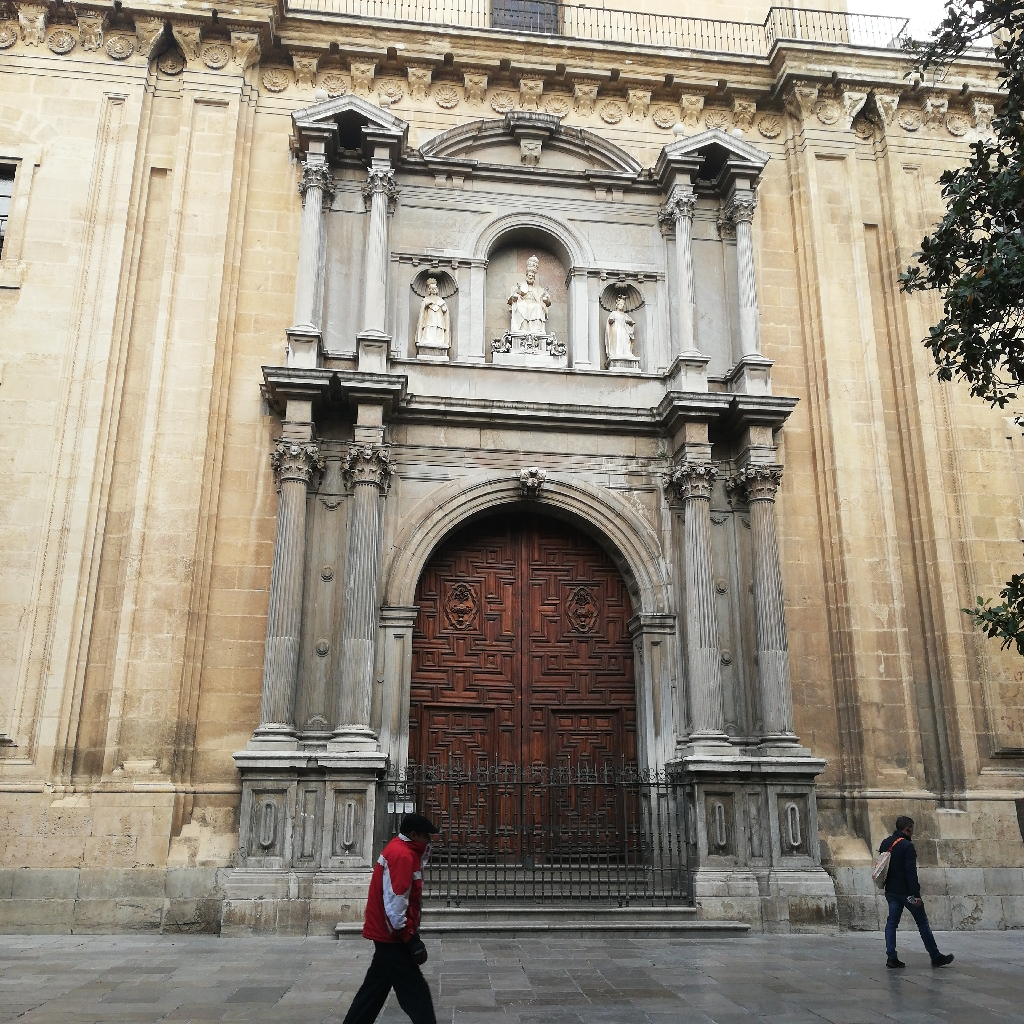arco-medio-punto: (400, 493, 654, 651), (478, 218, 583, 279)
fronton-curvo: (419, 112, 644, 187)
fronton-partido: (285, 92, 414, 145), (660, 126, 774, 174)
serliana: (394, 208, 661, 373)
